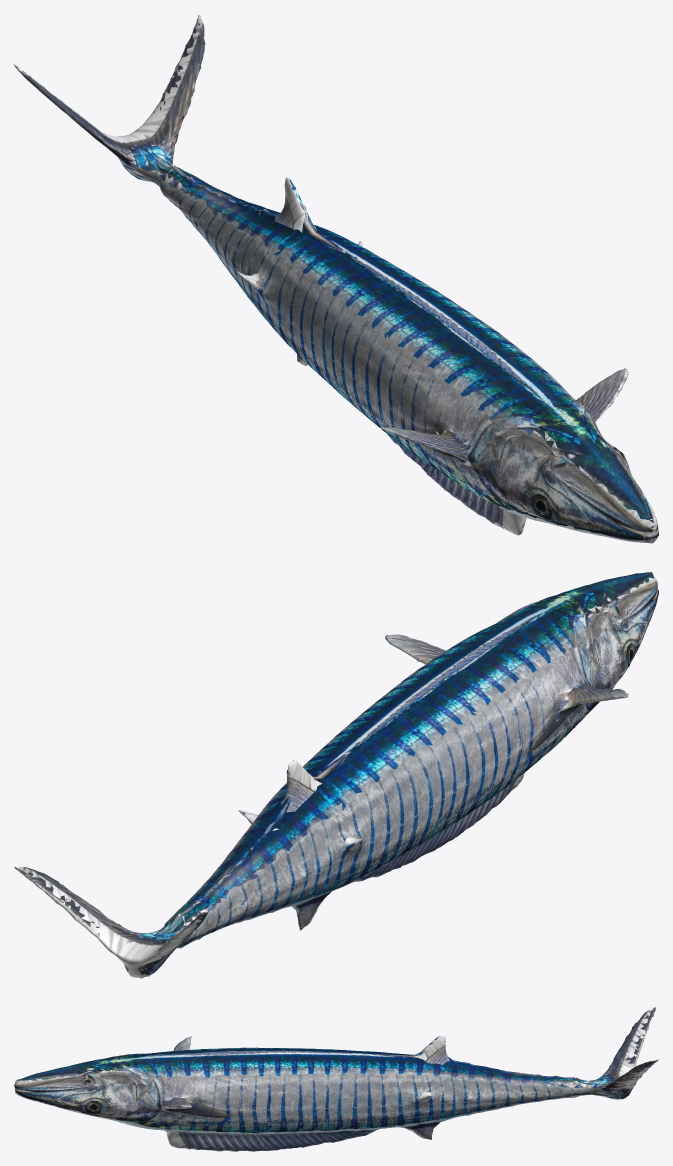
File: fish_wahoo.glb
The picture shows the model from 3 angles, top to bottom: view 1: azimuth 30°, elevation 25°; view 2: azimuth 150°, elevation 25°; view 3: azimuth 270°, elevation 25°; orthographic projection. The views are drawn at different scales.
Parts seen in each view (by area): view 1: orient; view 2: orient; view 3: orient.
Boxes of the visible parts, bbox=[...] form: orient: bbox=[14, 15, 658, 543]; orient: bbox=[14, 572, 658, 978]; orient: bbox=[14, 1007, 658, 1151].
Size of the model in its own units: 0.5054 by 0.3985 by 1.96.
Materials: 1 (1 with a texture image).
